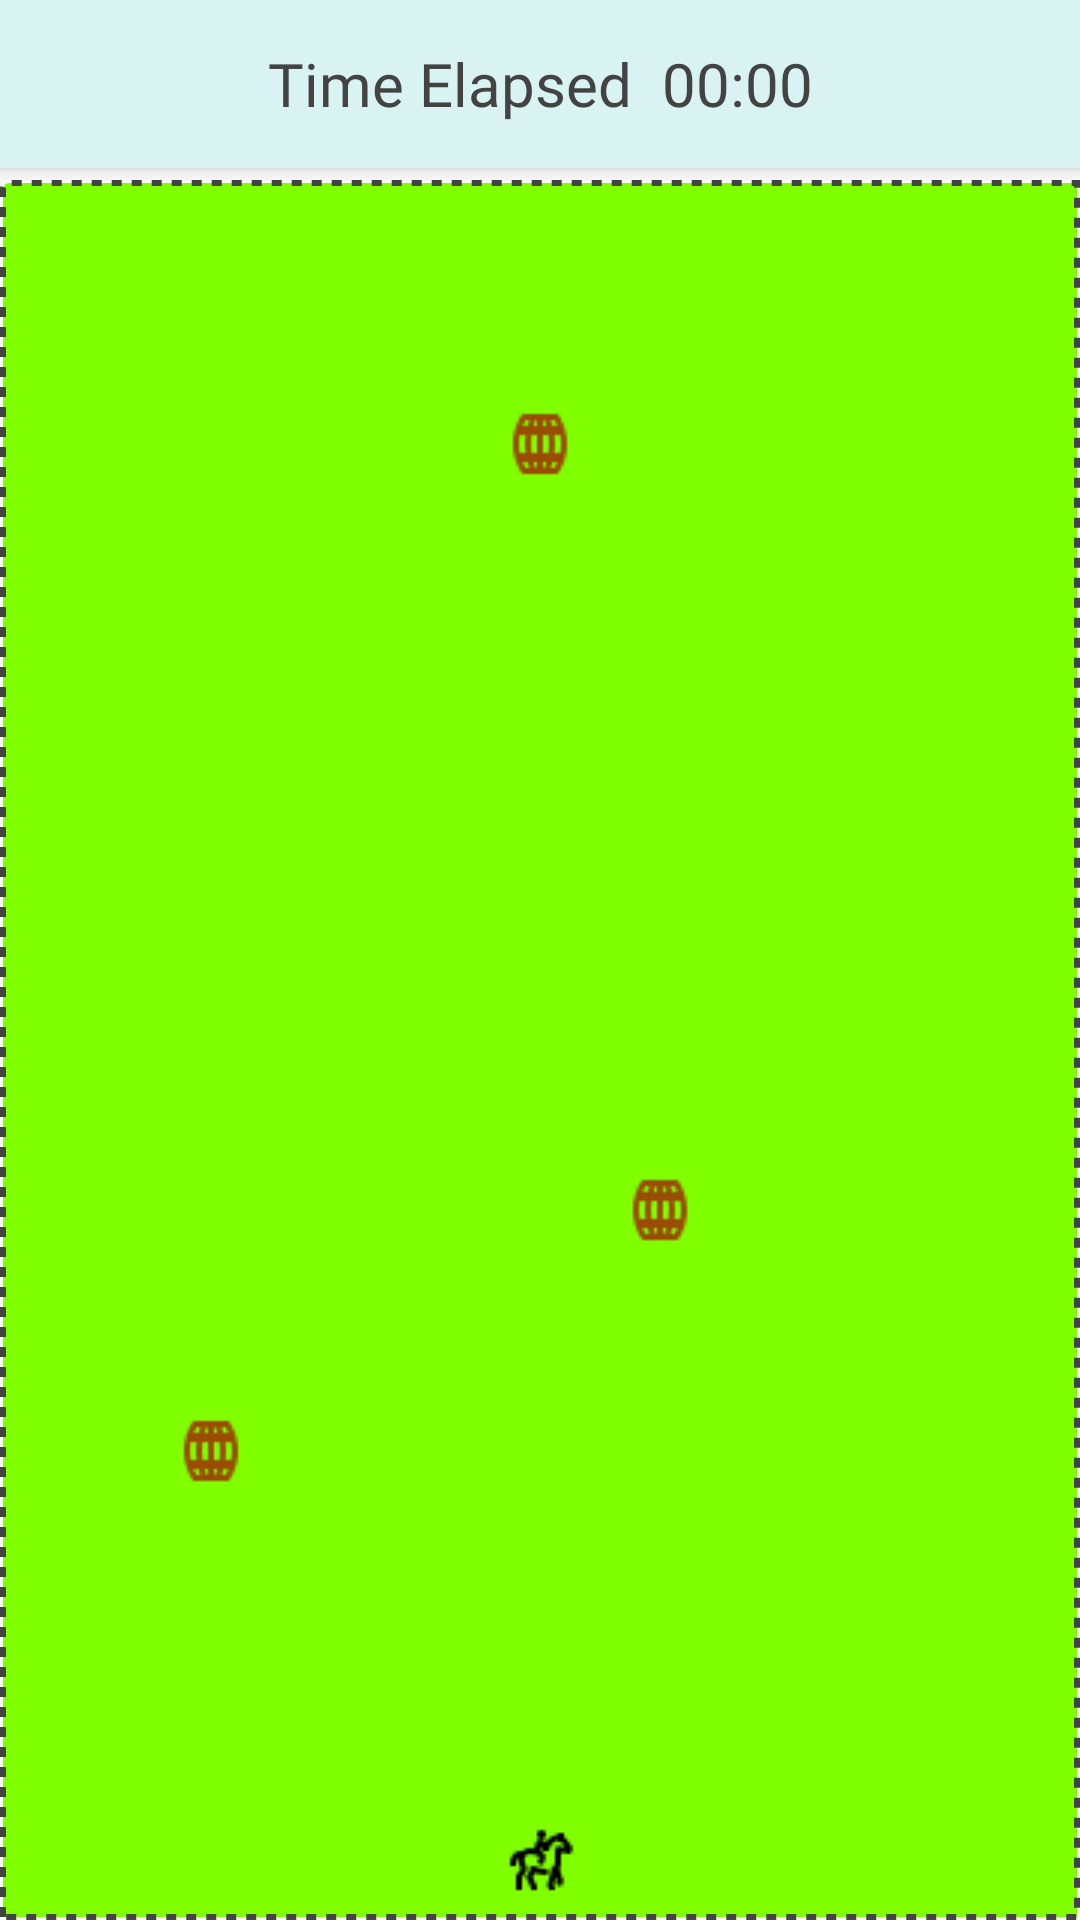

Screen size 1080 x 1920. Icon name, then its center in pixels as (x=x, y=y):
barrel: (x=540, y=444), (x=660, y=1210), (x=211, y=1451)
racer: (x=541, y=1860)
